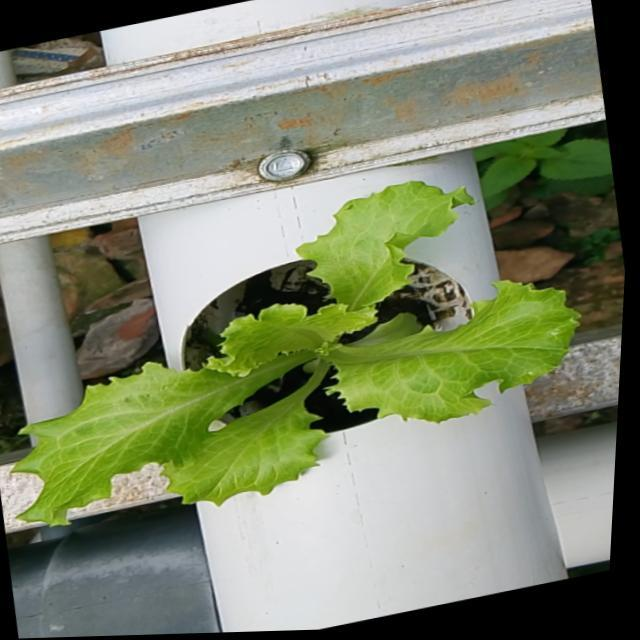Baby: (17, 183, 586, 528)
